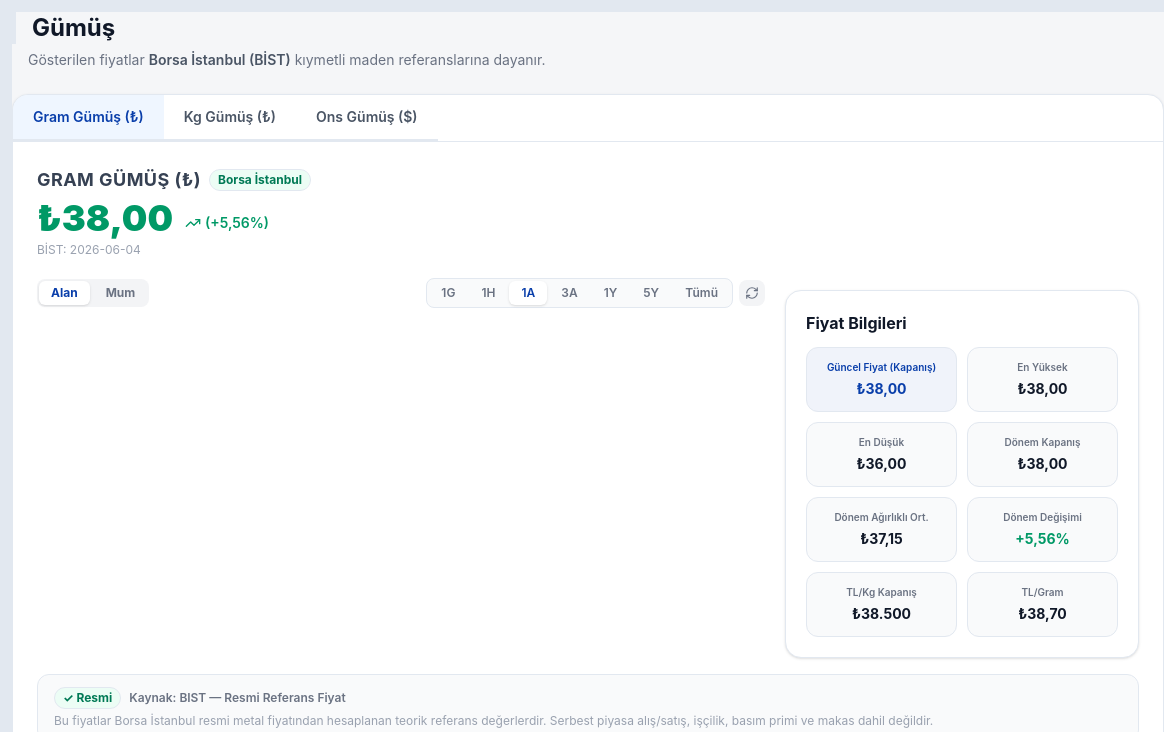
Test: SilverPage (Gümüş) — jsdom + testing-library › Ons ($) sekmesine geçince getSilverHistory USD para birimiyle çağrılır; currency=USD
Note: Ons sekmesine tıkla.
Click the button "Ons Gümüş ($)" at [367, 118], box x1=296 y1=95 x2=438 y2=141
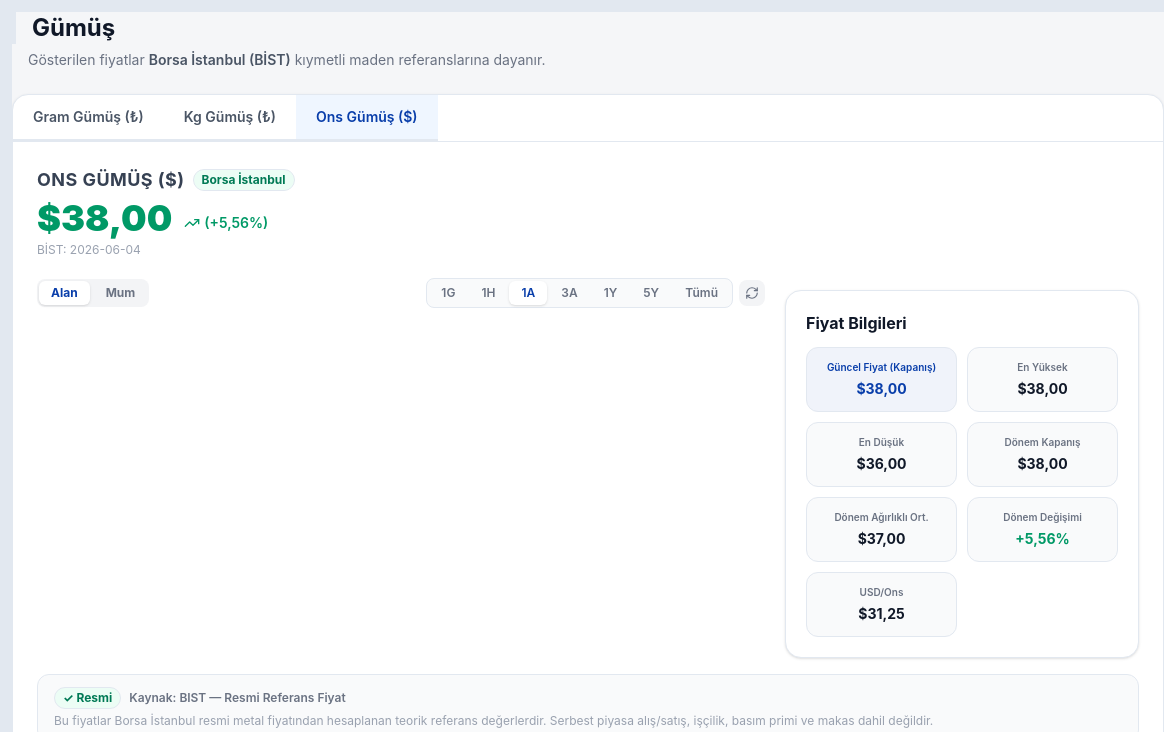
Result: the text "USD/Ons" is shown at x1=860 y1=586 x2=903 y2=598
